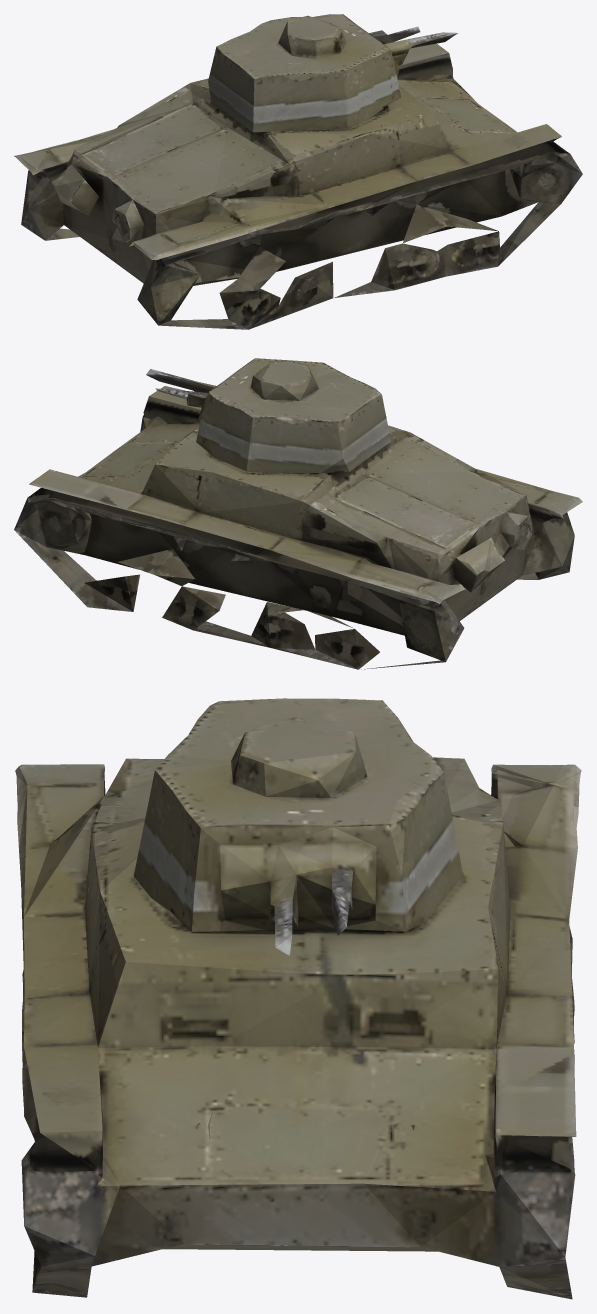
Rendered from both.obj.
The picture shows the model from 3 angles, top to bottom: view 1: azimuth 30°, elevation 25°; view 2: azimuth 150°, elevation 25°; view 3: azimuth 270°, elevation 25°; orthographic projection. The views are drawn at different scales.
Parts seen in each view (by area): view 1: turret.obj; view 2: turret.obj; view 3: turret.obj.
Boxes of the visible parts, left/top/right/bottom form: turret.obj: left=14, top=14, right=582, bottom=329; turret.obj: left=14, top=358, right=582, bottom=669; turret.obj: left=15, top=698, right=581, bottom=1299.
Size of the model in its own units: 0.9998 by 0.4799 by 0.564.
Materials: 1 (1 with a texture image).
